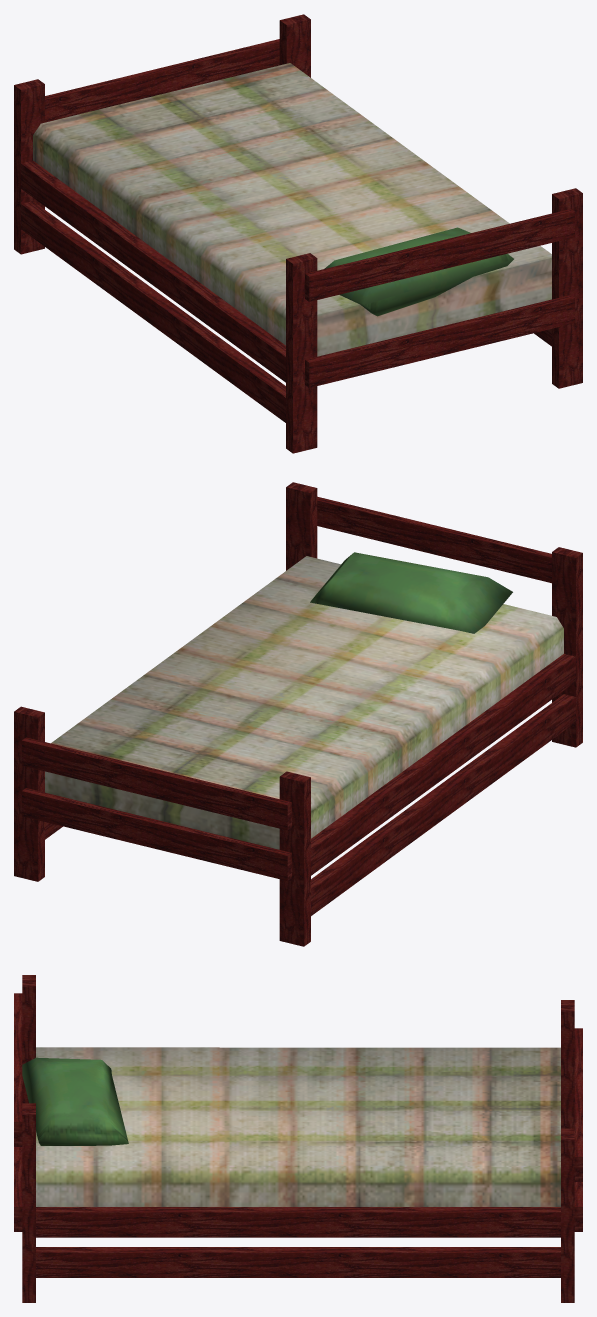
The model's file is singlewoodbed.fbx.
The picture shows the model from 3 angles, top to bottom: view 1: azimuth 30°, elevation 25°; view 2: azimuth 150°, elevation 25°; view 3: azimuth 270°, elevation 25°; orthographic projection.
Visible parts, largest first — view 1: mesh_0; view 2: mesh_0; view 3: mesh_0.
Boxes of the visible parts, <box> form: mesh_0: <box>14,14,582,453</box>; mesh_0: <box>14,482,582,946</box>; mesh_0: <box>14,975,582,1302</box>.
Bounding box in the file's own units: 120 × 75 × 206.
1 material, 1 textured.
